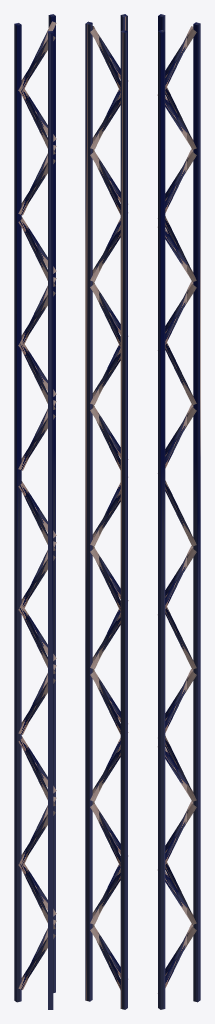
The model's file is support.obj.
3 renders of one model, left to right at view 1: azimuth 30°, elevation 25°; view 2: azimuth 150°, elevation 25°; view 3: azimuth 330°, elevation 25°, orthographic.
Visible parts, largest first — view 1: Cube.001, Cube.004, Cube.003, Plane.017_Plane.019, Plane.021_Plane.023, Plane.029_Plane.031, Plane.018_Plane.020, Plane.019_Plane.021, Plane.010_Plane.017, Plane.016_Plane.018, Plane.022_Plane.024, Plane.024_Plane.026 (+21 smaller); view 2: Cube.001, Cube.003, Plane.057_Plane.059, Plane.053_Plane.055, Plane.050_Plane.052, Plane.058_Plane.060, Plane.046_Plane.048, Plane.047_Plane.049, Plane.054_Plane.056, Plane.051_Plane.053, Plane.059_Plane.061, Plane.048_Plane.050 (+20 smaller); view 3: Cube.004, Cube.003, Plane.054_Plane.056, Plane.053_Plane.055, Plane.046_Plane.048, Plane.040_Plane.042, Plane.030_Plane.032, Plane.033_Plane.035, Plane.038_Plane.040, Plane.041_Plane.043, Plane.044_Plane.046, Plane.037_Plane.039 (+17 smaller).
Part boxes in pixels (bbox=[...]): Cube.001: bbox=[14, 23, 21, 1002]; Cube.004: bbox=[48, 31, 53, 1009]; Cube.003: bbox=[48, 14, 55, 992]; Plane.017_Plane.019: bbox=[21, 217, 55, 286]; Plane.021_Plane.023: bbox=[21, 159, 55, 206]; Plane.029_Plane.031: bbox=[21, 934, 55, 981]; Plane.018_Plane.020: bbox=[21, 291, 55, 339]; Plane.019_Plane.021: bbox=[21, 36, 55, 83]; Plane.010_Plane.017: bbox=[21, 414, 55, 462]; Plane.016_Plane.018: bbox=[23, 348, 55, 409]; Plane.022_Plane.024: bbox=[21, 678, 55, 726]; Plane.024_Plane.026: bbox=[21, 481, 55, 550]; Cube.001: bbox=[120, 30, 127, 1009]; Cube.003: bbox=[85, 21, 92, 1001]; Plane.057_Plane.059: bbox=[92, 746, 120, 794]; Plane.053_Plane.055: bbox=[92, 614, 120, 661]; Plane.050_Plane.052: bbox=[92, 94, 120, 142]; Plane.058_Plane.060: bbox=[92, 869, 120, 917]; Plane.046_Plane.048: bbox=[92, 350, 120, 397]; Plane.047_Plane.049: bbox=[92, 227, 120, 274]; Plane.054_Plane.056: bbox=[92, 491, 120, 538]; Plane.051_Plane.053: bbox=[92, 149, 120, 214]; Plane.059_Plane.061: bbox=[92, 924, 120, 989]; Plane.048_Plane.050: bbox=[92, 281, 120, 346]; Cube.004: bbox=[158, 30, 165, 1009]; Cube.003: bbox=[193, 22, 200, 1002]; Plane.054_Plane.056: bbox=[165, 480, 196, 546]; Plane.053_Plane.055: bbox=[165, 607, 196, 669]; Plane.046_Plane.048: bbox=[165, 343, 196, 405]; Plane.040_Plane.042: bbox=[157, 26, 193, 95]; Plane.030_Plane.032: bbox=[157, 924, 193, 993]; Plane.033_Plane.035: bbox=[165, 801, 193, 864]; Plane.038_Plane.040: bbox=[157, 149, 193, 218]; Plane.041_Plane.043: bbox=[157, 281, 193, 350]; Plane.044_Plane.046: bbox=[157, 404, 193, 473]; Plane.037_Plane.039: bbox=[165, 669, 193, 732].
Size of what is drawn, in the model's own units: 2.83 by 67.02 by 2.58.
